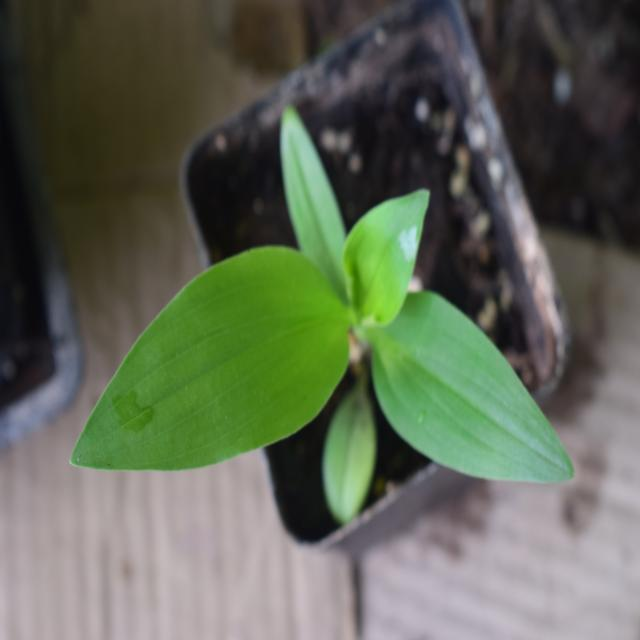Common Dayflower: (65, 154, 590, 523)
